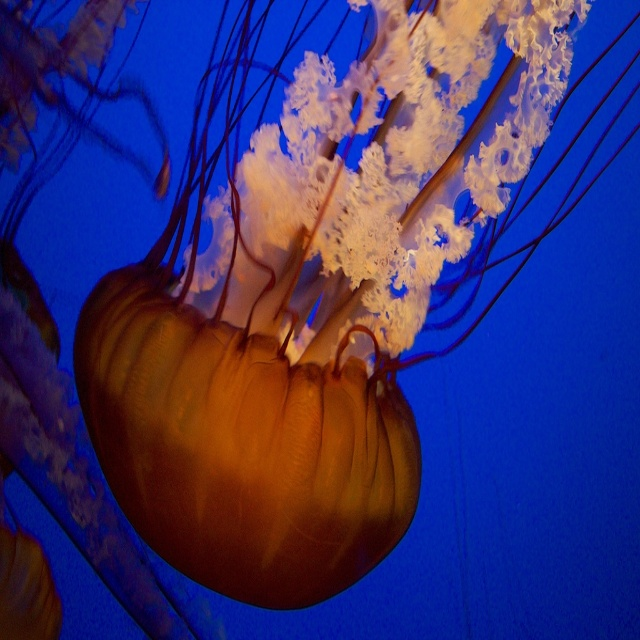Jellyfish: (67, 0, 640, 611)
